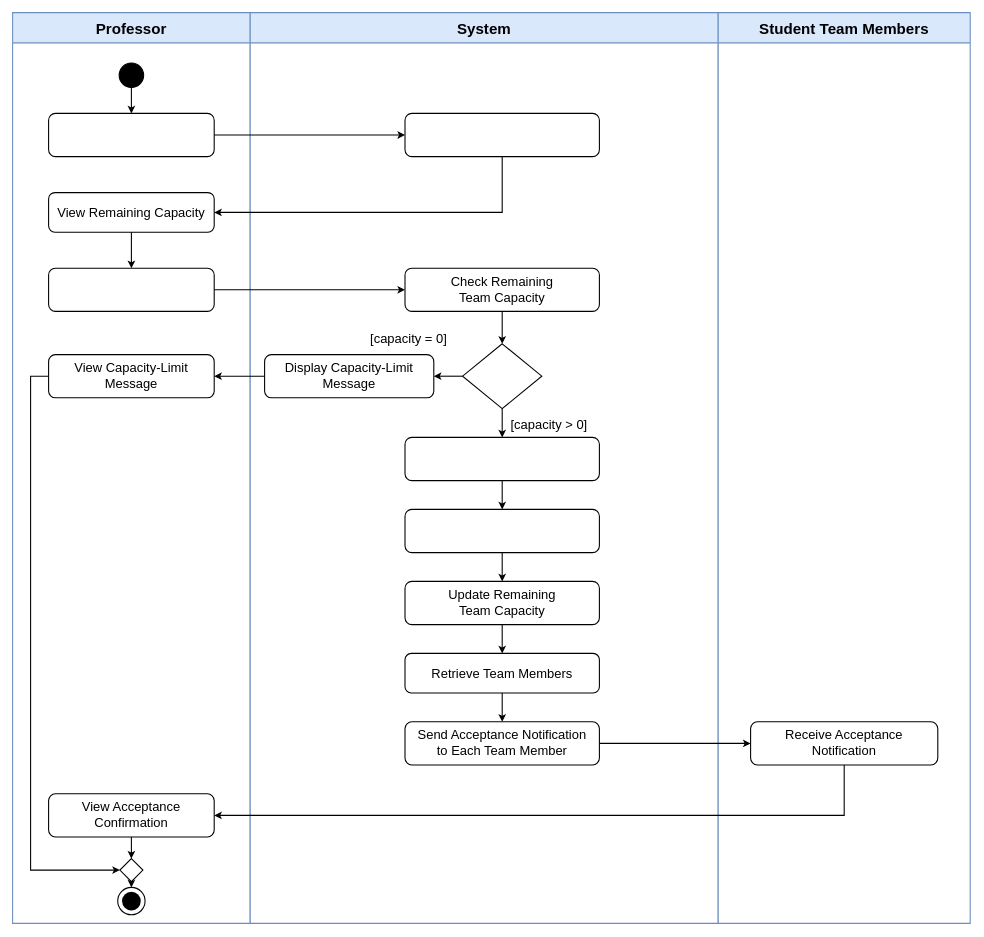
The diagram is 984 pixels wide and 937 high, and some of its shapes have lost their labels. The centre of each missing label's shape, as x and y in pixels:
Capacity available?: point 502,376
Choose Accept for Selected Student Group: point 131,289
Create Advisor Assignment for Professor and Team: point 502,531
Mark Advisor Request as Accepted: point 502,459
Request Remaining Team Capacity: point 131,135
Retrieve and Display Remaining Team Capacity: point 502,135
